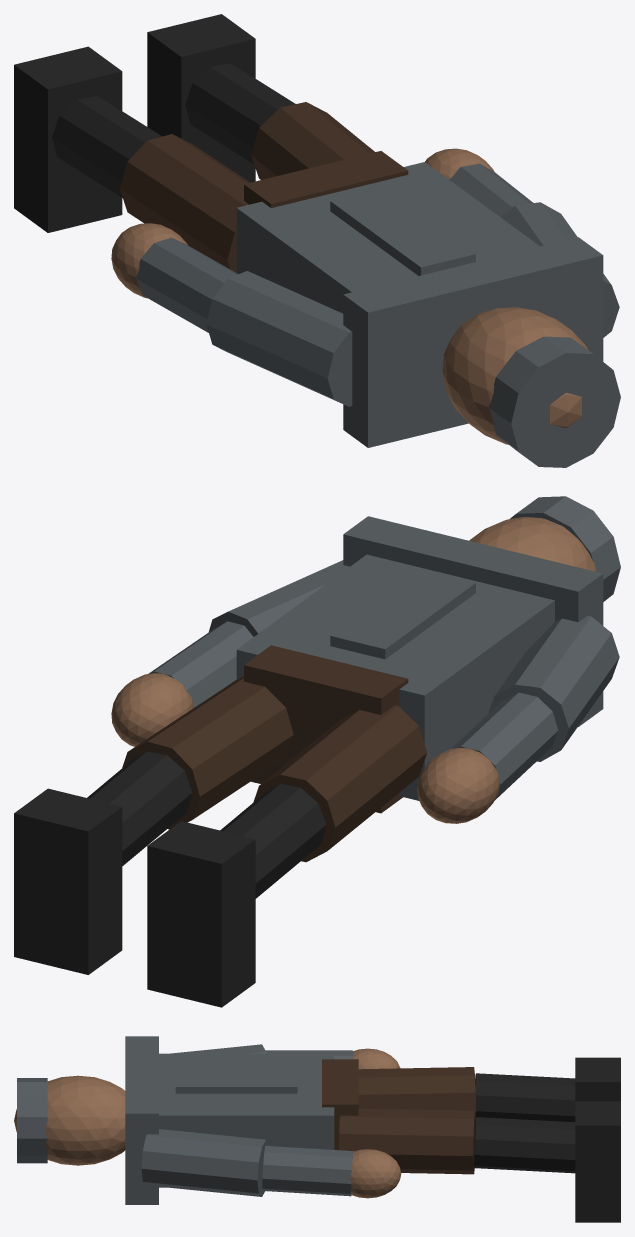
Rendered from SM_CharacterGuard_Preview.obj.
3 views of the same model, one above another, from view 1: azimuth 30°, elevation 25°; view 2: azimuth 150°, elevation 25°; view 3: azimuth 270°, elevation 25° (orthographic). The views are drawn at different scales.
Bounding box in the file's own units: 0.95 × 0.41 × 1.99.
